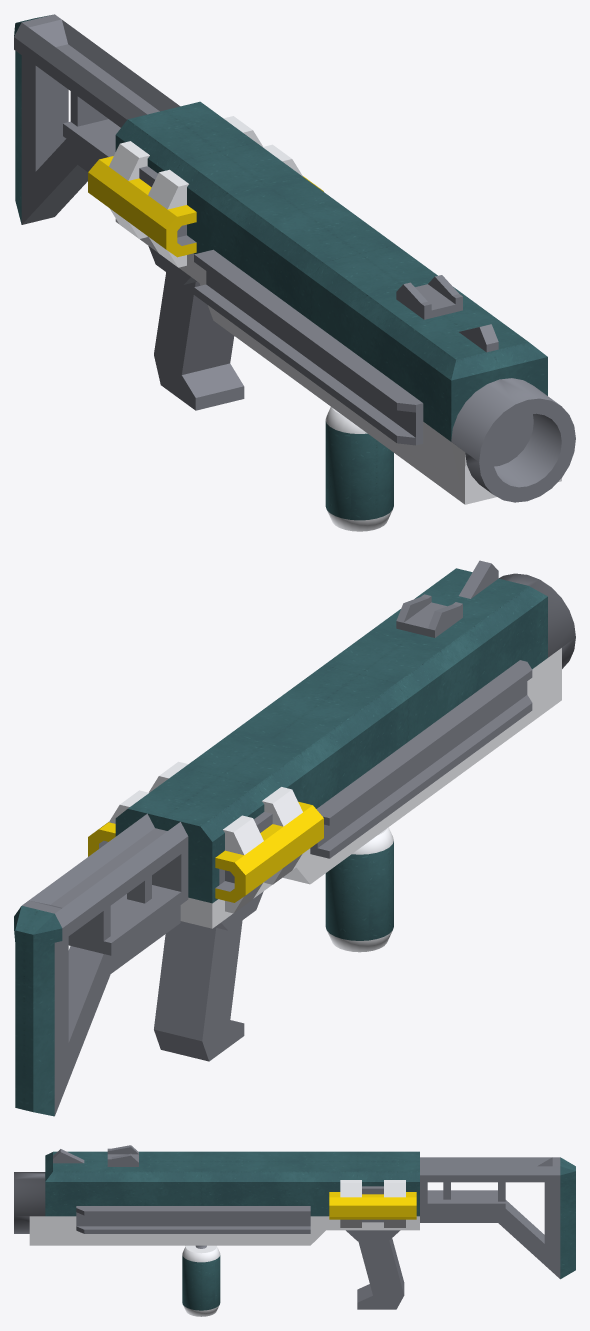
Rendered from blaster.glb.
The picture shows the model from 3 angles, top to bottom: view 1: azimuth 30°, elevation 25°; view 2: azimuth 150°, elevation 25°; view 3: azimuth 270°, elevation 25°; orthographic projection. The views are drawn at different scales.
Visible parts, largest first — view 1: mergedBlocks; view 2: mergedBlocks; view 3: mergedBlocks.
Boxes of the visible parts, left/top/right/bottom form: mergedBlocks: left=14, top=14, right=575, bottom=531; mergedBlocks: left=14, top=560, right=575, bottom=1116; mergedBlocks: left=14, top=1145, right=575, bottom=1316.
Size of the model in its own units: 0.65 by 1.13 by 3.6.
Materials: 4 (1 with a texture image).
